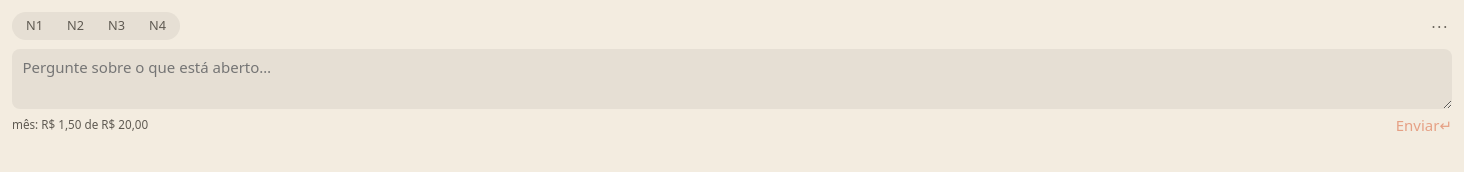
N1–N4 num grupo só e Recomeçar dentro do ···
expect the button "Recomeçar" is not shown: met
Click the button named "Mais ações" at (1440, 26), box [1428, 15, 1452, 37]
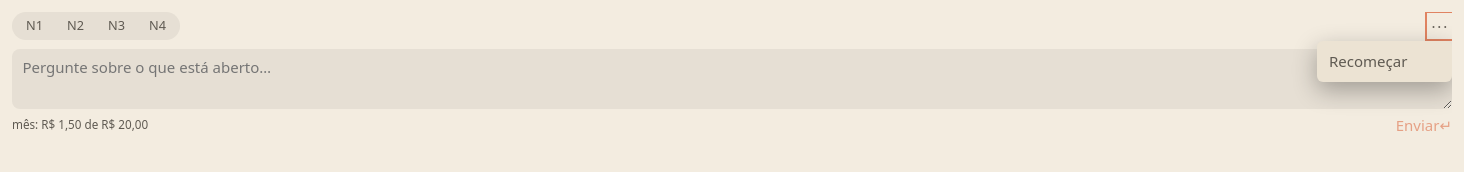
expect the menu item "Recomeçar" is shown: met, box [1317, 46, 1452, 77]
